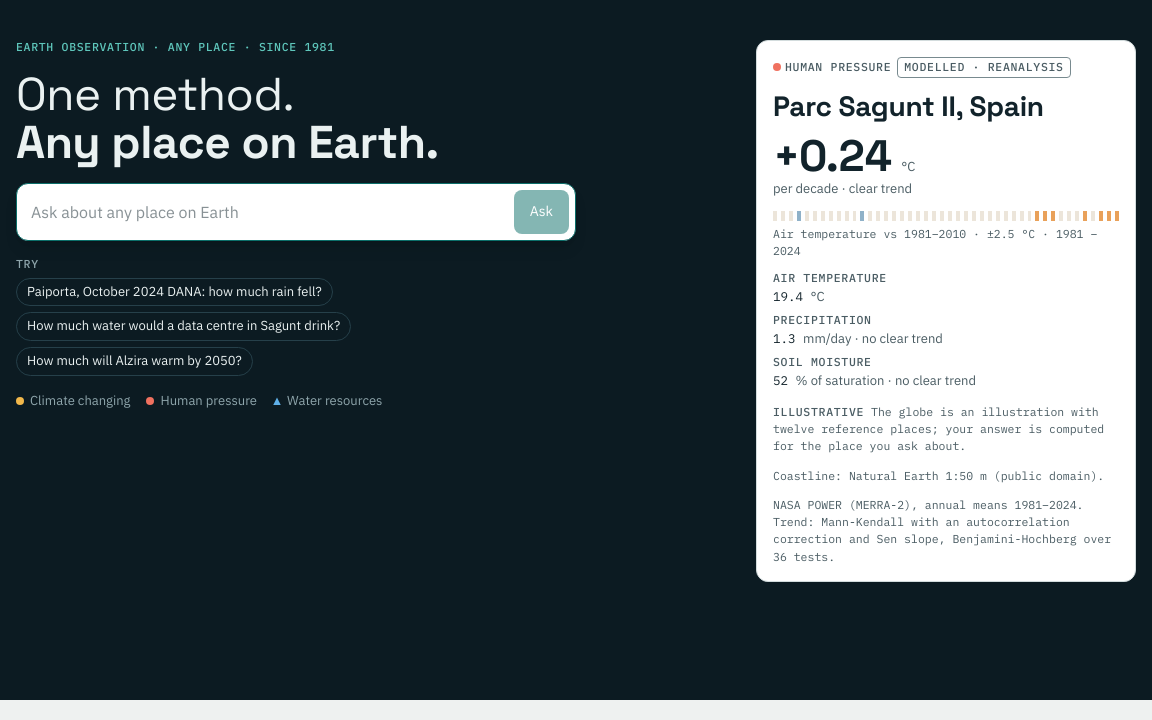
Test case: a question about the place leaves the caret with whoever is still typing
Step 1. Type "What happens with the burnt refineries in the gulf?" into the search field named "Your question" → (264, 212), box [23,190,506,234]
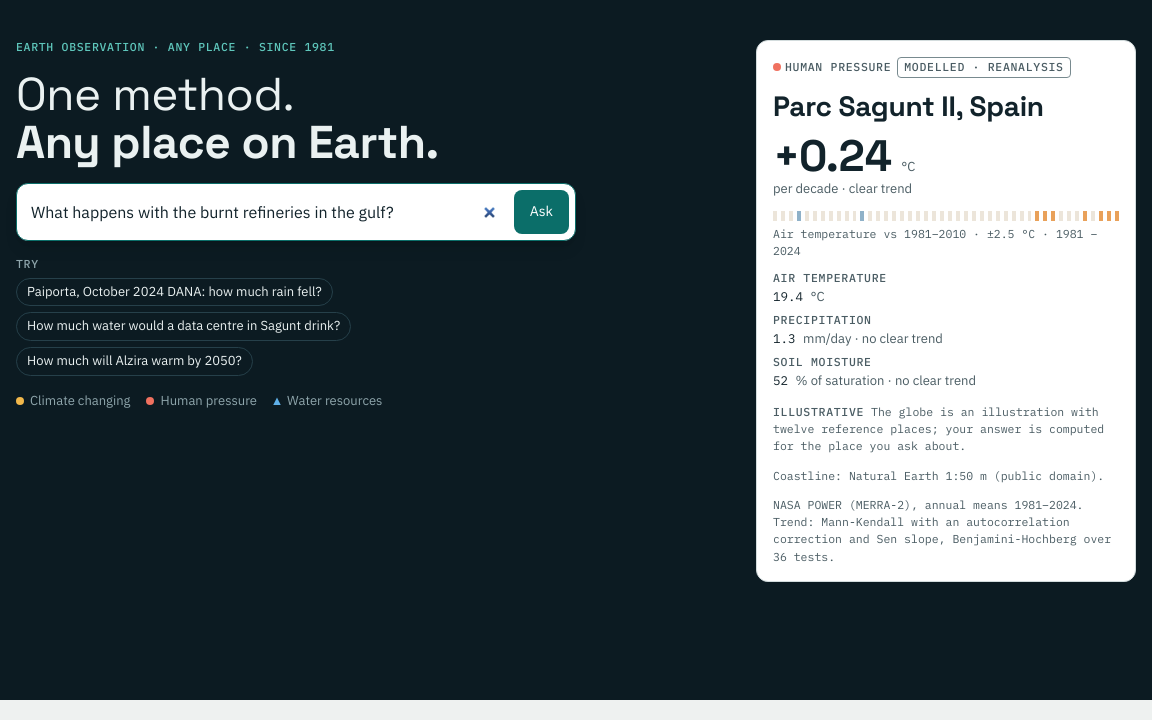
Step 2. Click the button "Ask" → click(541, 212), box [514,190,569,234]
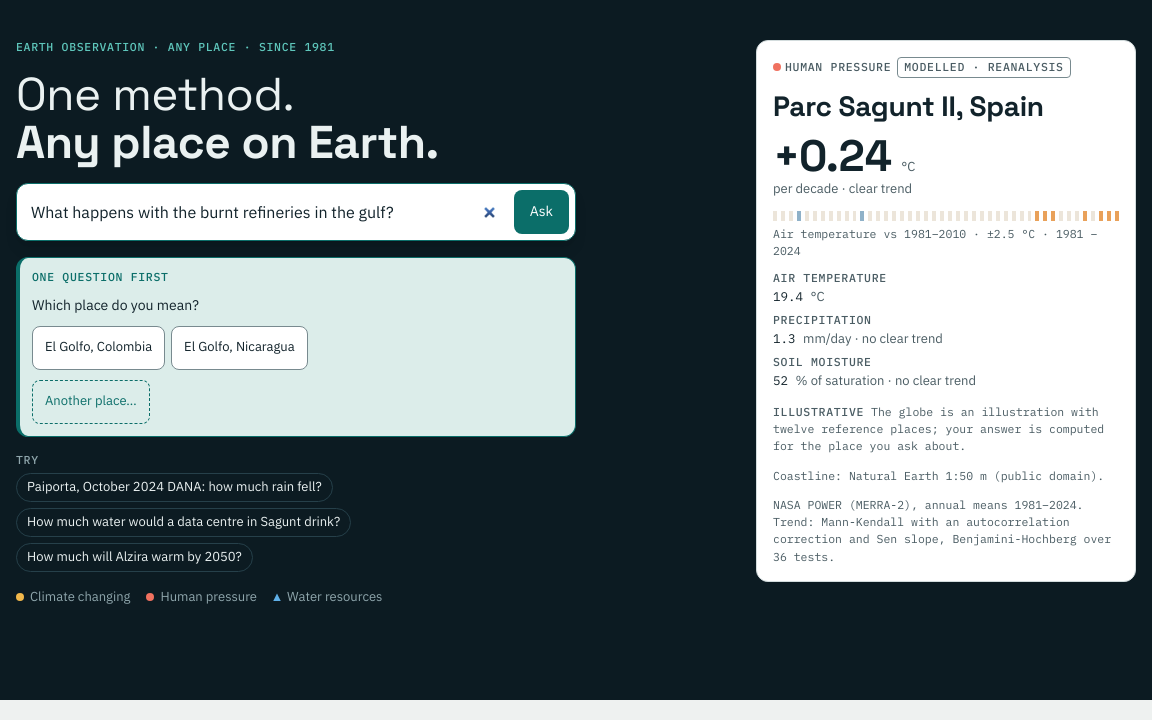
expect the text "Which place do you mean?" is shown: met, box [32,296,199,314]
